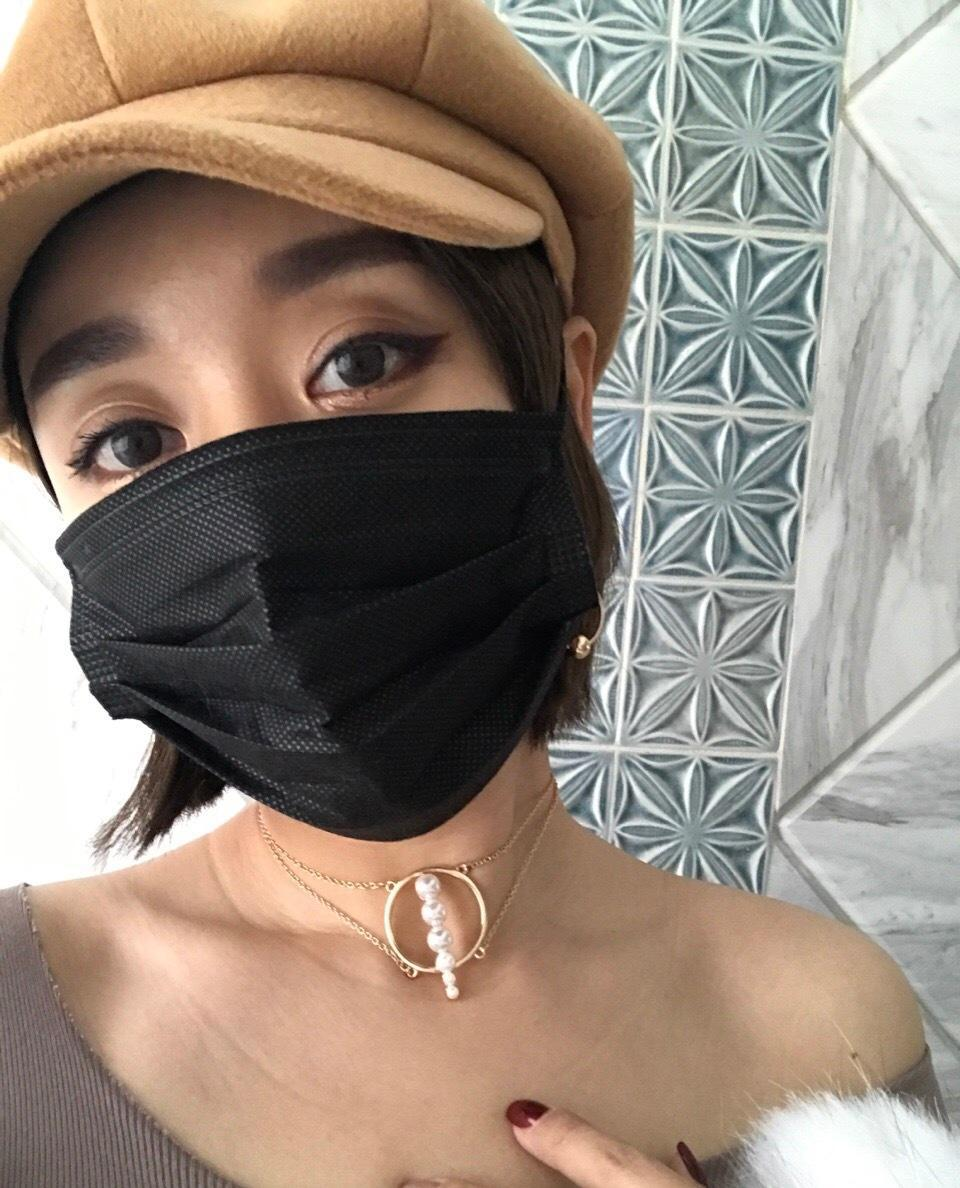OK: (33, 232, 561, 848)
